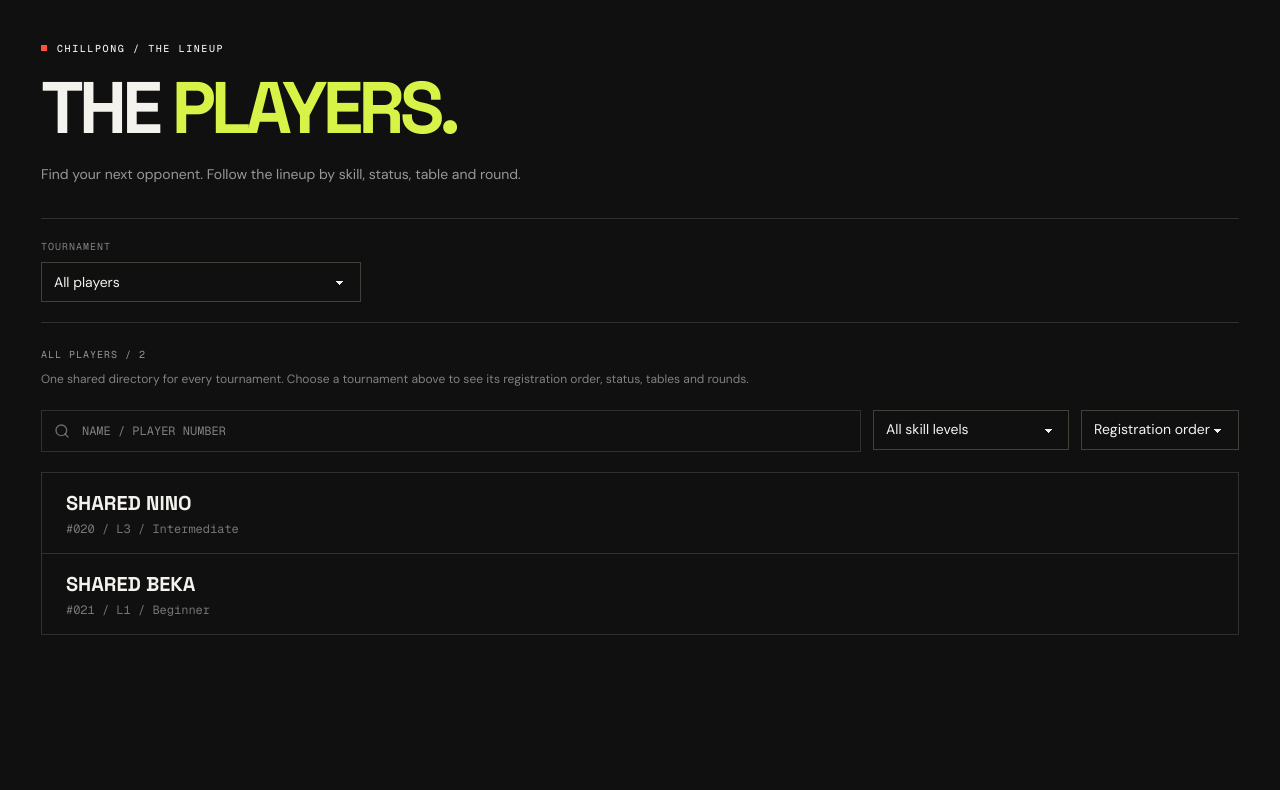
Players page › selects a tournament, shows its entrants in registration order and switches lineups
Select "Night Rally / live" in the dropdown labelled "Tournament" at (201, 282), box left=41, top=262, right=361, bottom=302
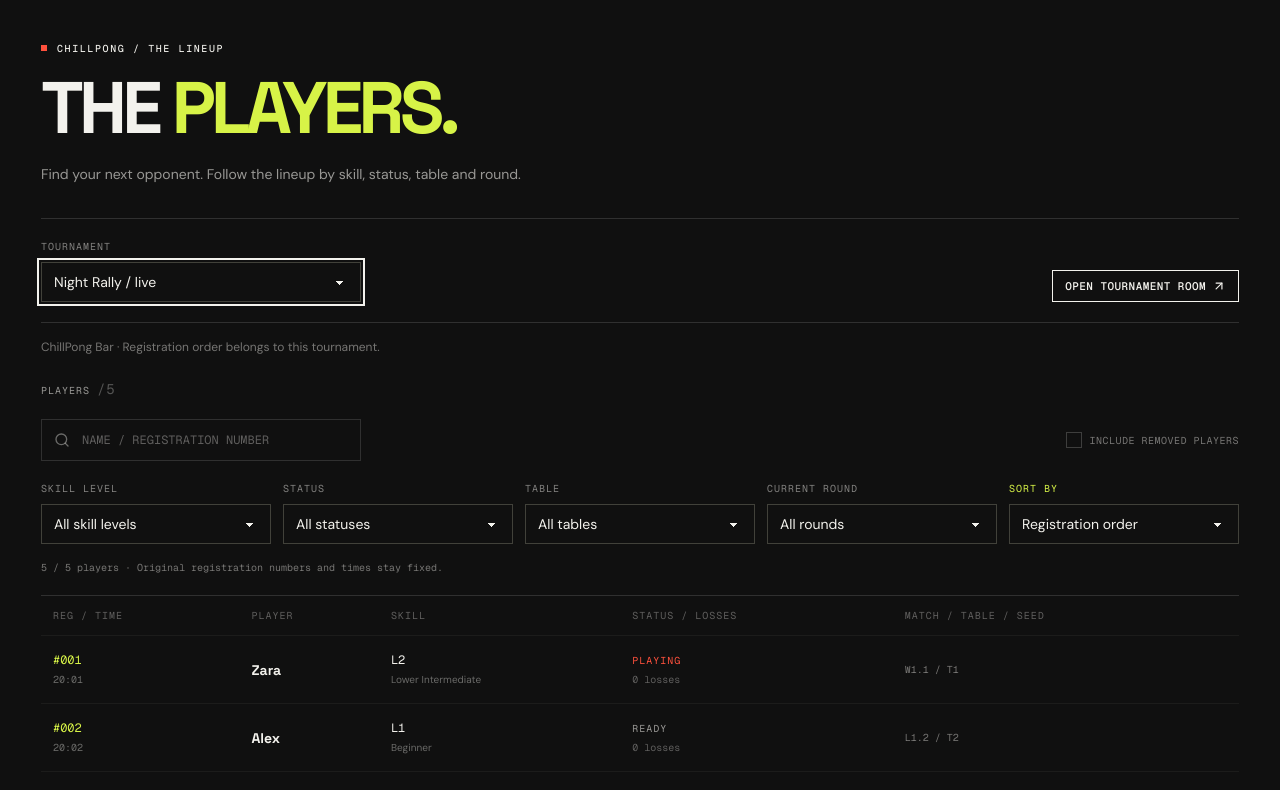
Check: the column heading "Zara" is shown, box left=240, top=636, right=379, bottom=704
Select "Next Night / upcoming" in the dropdown labelled "Tournament" at (201, 282), box left=41, top=262, right=361, bottom=302
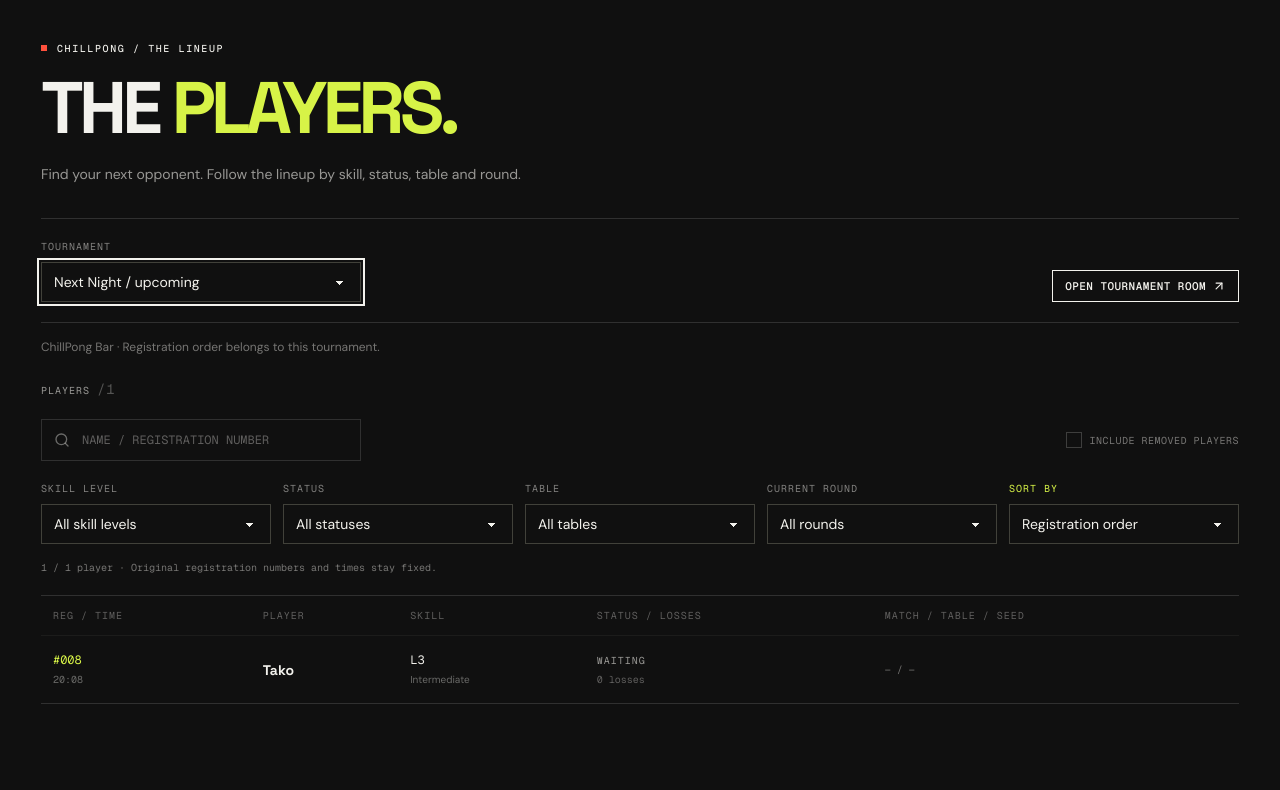
Check: the column heading "Tako" is shown, box left=251, top=636, right=398, bottom=703
Check: the text "Zara" is gone
